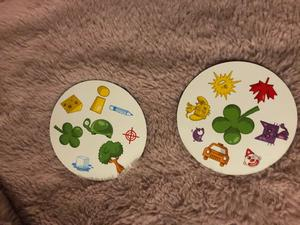arbre: (98, 139, 128, 174)
chat: (254, 119, 290, 145)
chien: (182, 94, 212, 123)
cible: (121, 125, 140, 144)
clown: (240, 146, 262, 168)
crayon: (109, 103, 134, 119)
feuille: (246, 76, 278, 105)
fromage: (58, 93, 85, 114)
glacon: (69, 154, 97, 173)
oiseau: (187, 125, 205, 144)
point_exclamation: (88, 85, 111, 116)
soleil: (206, 68, 241, 101)
tortue: (82, 115, 116, 141)
trefle: (209, 102, 260, 145), (52, 118, 84, 148)
voiture: (199, 140, 228, 168)
